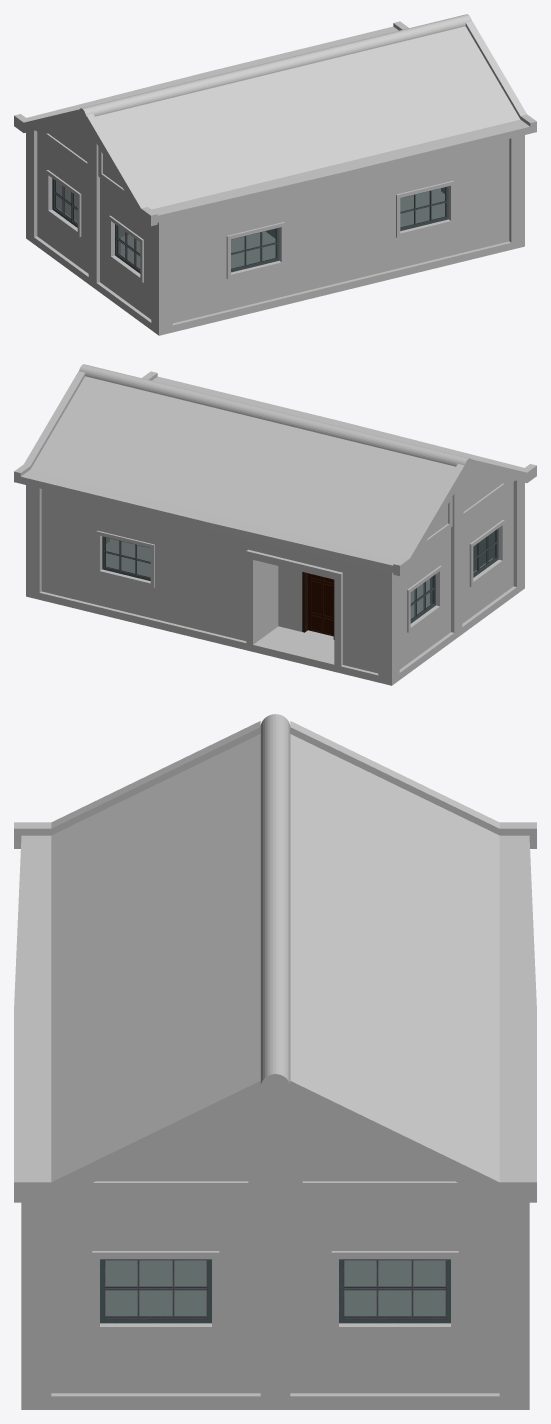
The picture shows the model from 3 angles, top to bottom: view 1: azimuth 30°, elevation 25°; view 2: azimuth 150°, elevation 25°; view 3: azimuth 270°, elevation 25°; orthographic projection. The views are drawn at different scales.
Visible parts, largest first — view 1: House, Glass_Window_4, Glass_Window_5, Glass_Window_7, Glass_Window_6; view 2: House, Glass_Window_1, Door_1, Glass_Window_6, Glass_Window_7, Input_1; view 3: House, Glass_Window_2, Glass_Window_3.
Part boxes in pixels (box(x1,y1,x2,y2)): House: box(14, 14, 536, 335); Glass_Window_4: box(400, 186, 448, 230); Glass_Window_5: box(231, 227, 279, 272); Glass_Window_7: box(115, 224, 140, 273); Glass_Window_6: box(52, 178, 77, 227); House: box(14, 364, 536, 685); Glass_Window_1: box(102, 536, 150, 580); Door_1: box(308, 573, 333, 636); Glass_Window_6: box(410, 574, 435, 623); Glass_Window_7: box(473, 528, 498, 577); Input_1: box(302, 572, 334, 639); House: box(14, 714, 536, 1409); Glass_Window_2: box(339, 1259, 450, 1323); Glass_Window_3: box(100, 1259, 211, 1323).
Size of the model in its own units: 1140 by 510 by 700.
